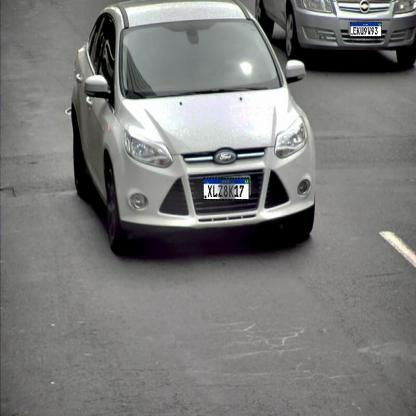PlacaM: (202, 178, 249, 200), (350, 22, 382, 37)
